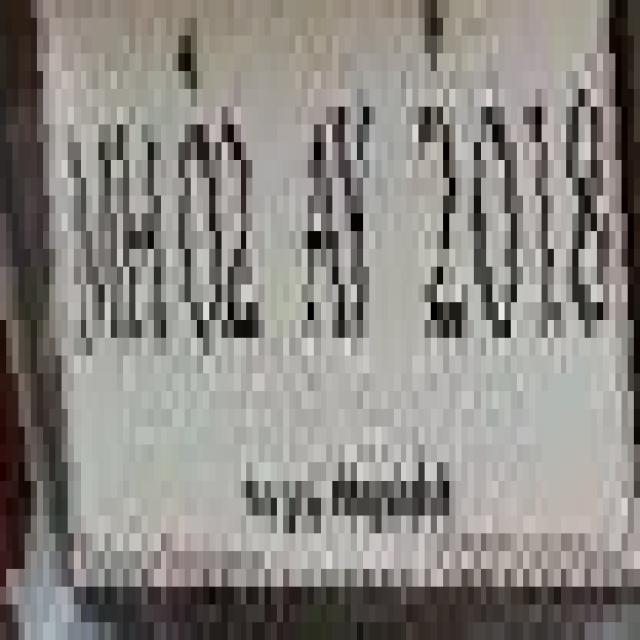plate: (0, 18, 609, 480)
